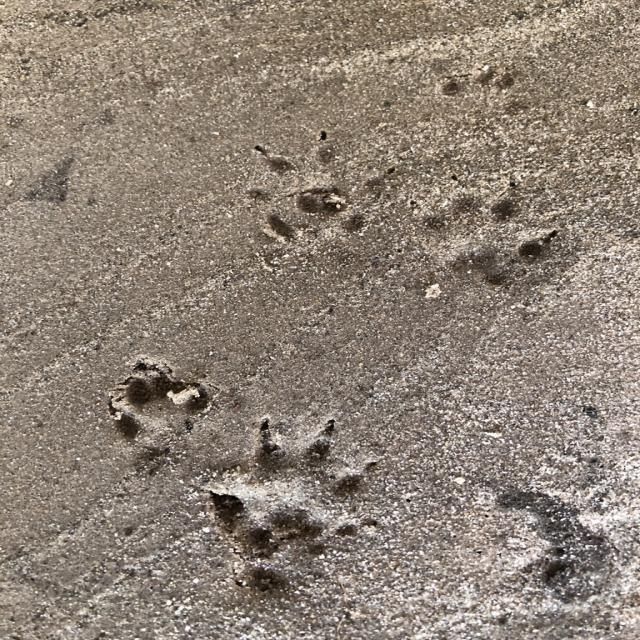mustelid: (203, 424, 364, 586), (245, 132, 386, 243), (422, 184, 556, 300), (106, 362, 200, 452), (433, 68, 529, 128)
